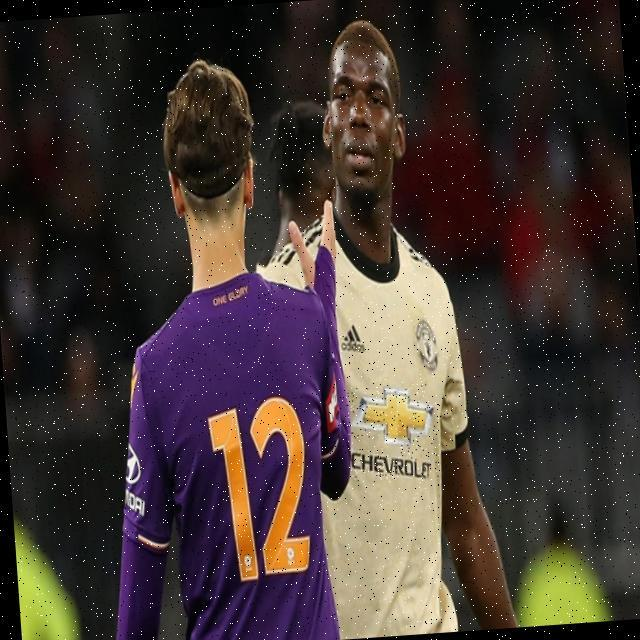Adidas: (339, 320, 366, 356)
Chevrolet: (343, 382, 440, 484)
